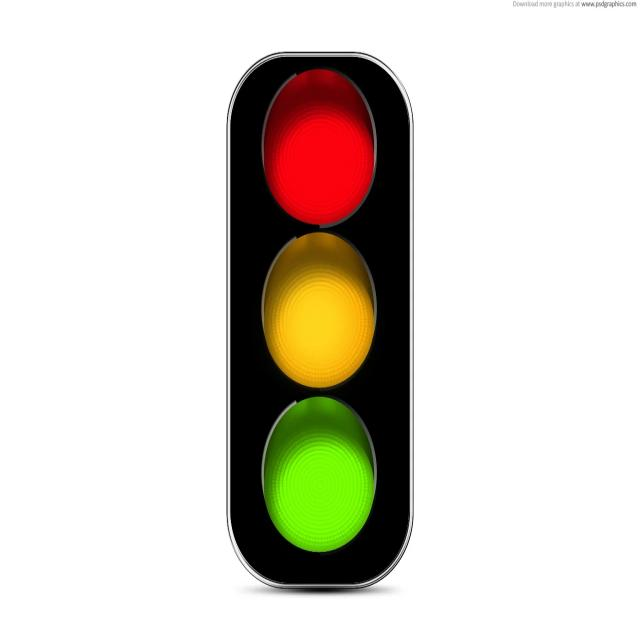green-lights: (256, 380, 376, 560)
red-lights: (242, 74, 384, 223)
yellow-lights: (243, 218, 397, 366)
